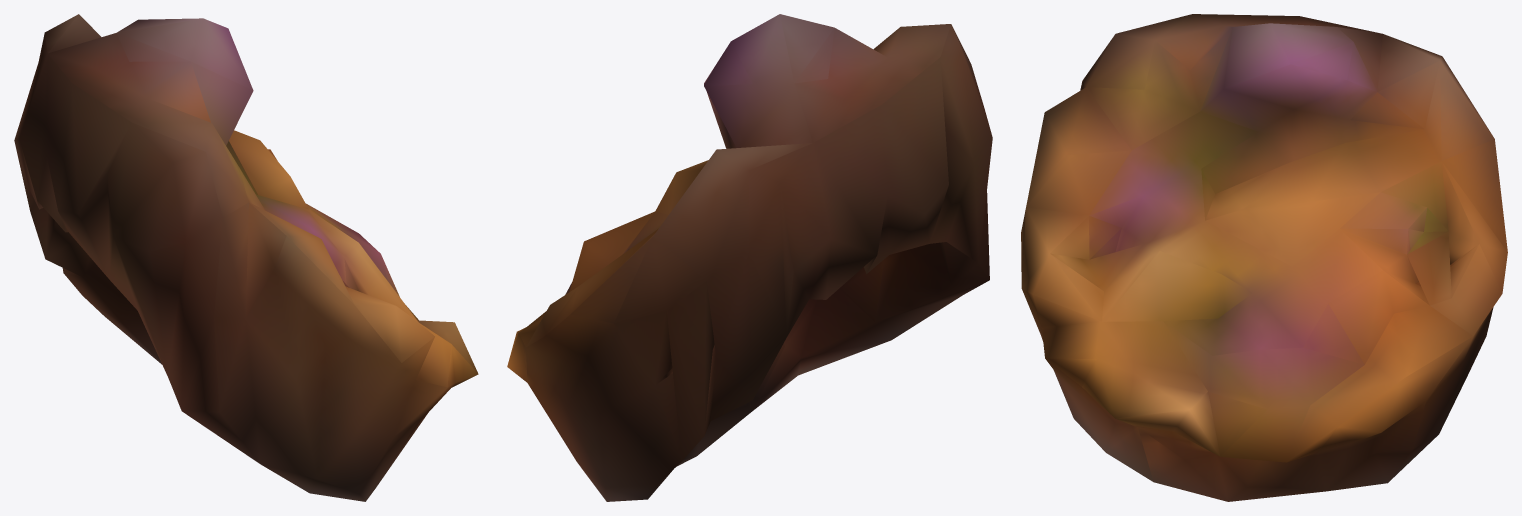
File: dish_jungle_pie.glb
3 views of the same model, side by side, from view 1: azimuth 30°, elevation 25°; view 2: azimuth 150°, elevation 25°; view 3: azimuth 270°, elevation 25° (orthographic). The views are drawn at different scales.
Visible parts, largest first — view 1: model; view 2: model; view 3: model.
Part boxes in pixels (x1,y1,x2,y2): model: (14, 14, 478, 501); model: (507, 14, 992, 501); model: (1021, 14, 1507, 501).
Bounding box in the file's own units: 0.3078 × 0.3748 × 0.3885.
Materials: 1 (1 with a texture image).
